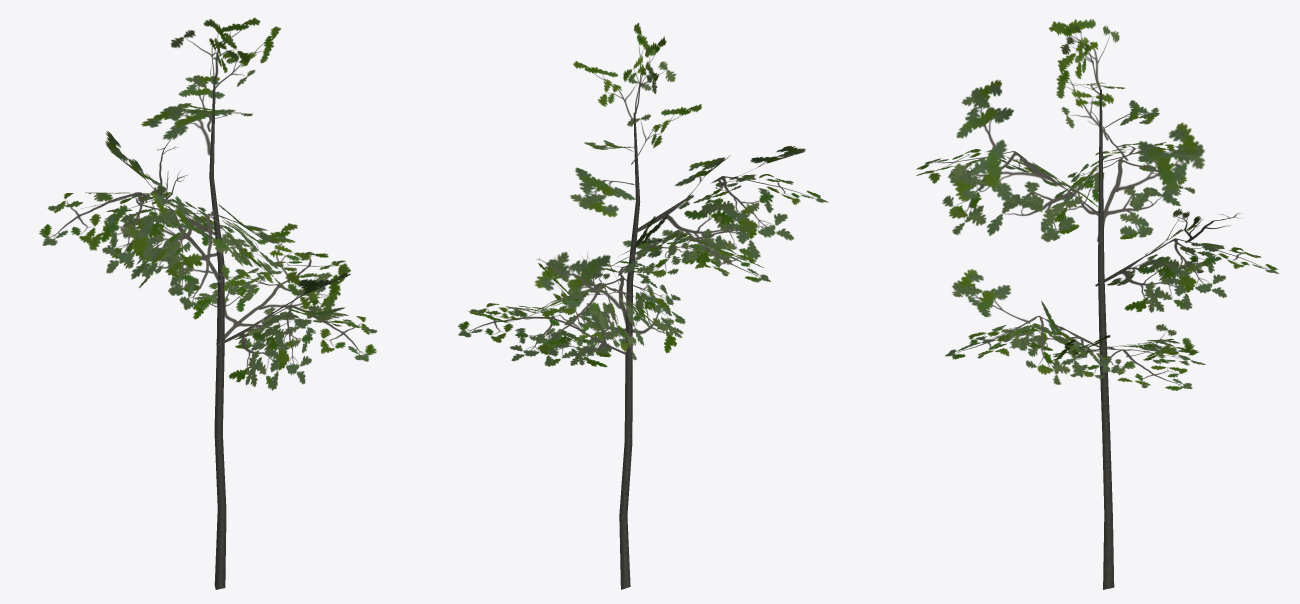
The model's file is oak_sapling_2.glb.
The picture shows the model from 3 angles, left to right: view 1: azimuth 30°, elevation 25°; view 2: azimuth 150°, elevation 25°; view 3: azimuth 270°, elevation 25°; orthographic projection. The views are drawn at different scales.
Parts seen in each view (by area): view 1: Sapling_oak_tree_002_LOD1_Cluster_Mat_0, Sapling_oak_tree_002_LOD1_Bark_Mat_0; view 2: Sapling_oak_tree_002_LOD1_Cluster_Mat_0, Sapling_oak_tree_002_LOD1_Bark_Mat_0; view 3: Sapling_oak_tree_002_LOD1_Cluster_Mat_0, Sapling_oak_tree_002_LOD1_Bark_Mat_0.
Part boxes in pixels (x1,y1,x2,y2): Sapling_oak_tree_002_LOD1_Cluster_Mat_0: (39,17,377,390); Sapling_oak_tree_002_LOD1_Bark_Mat_0: (209,81,226,589); Sapling_oak_tree_002_LOD1_Cluster_Mat_0: (458,22,828,367); Sapling_oak_tree_002_LOD1_Bark_Mat_0: (619,112,640,589); Sapling_oak_tree_002_LOD1_Cluster_Mat_0: (916,19,1279,390); Sapling_oak_tree_002_LOD1_Bark_Mat_0: (1098,89,1114,589).
Bounding box in the file's own units: 0.7302 × 1.16 × 0.7593.
2 materials, 2 textured.
